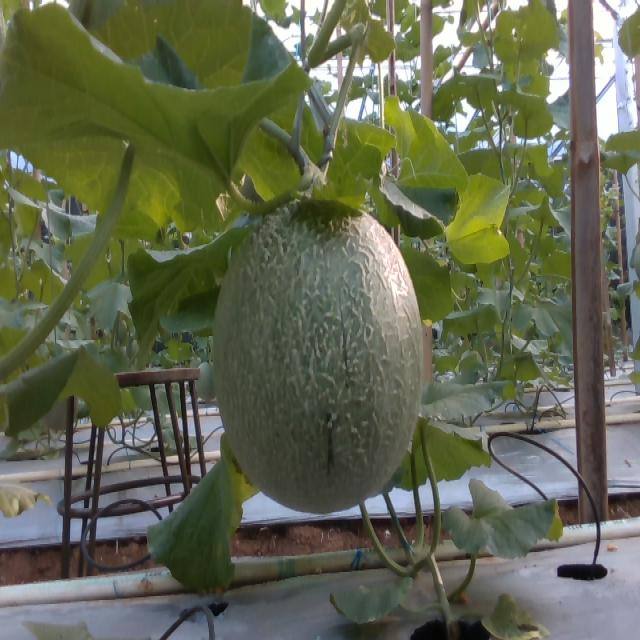melon: (214, 200, 424, 514)
